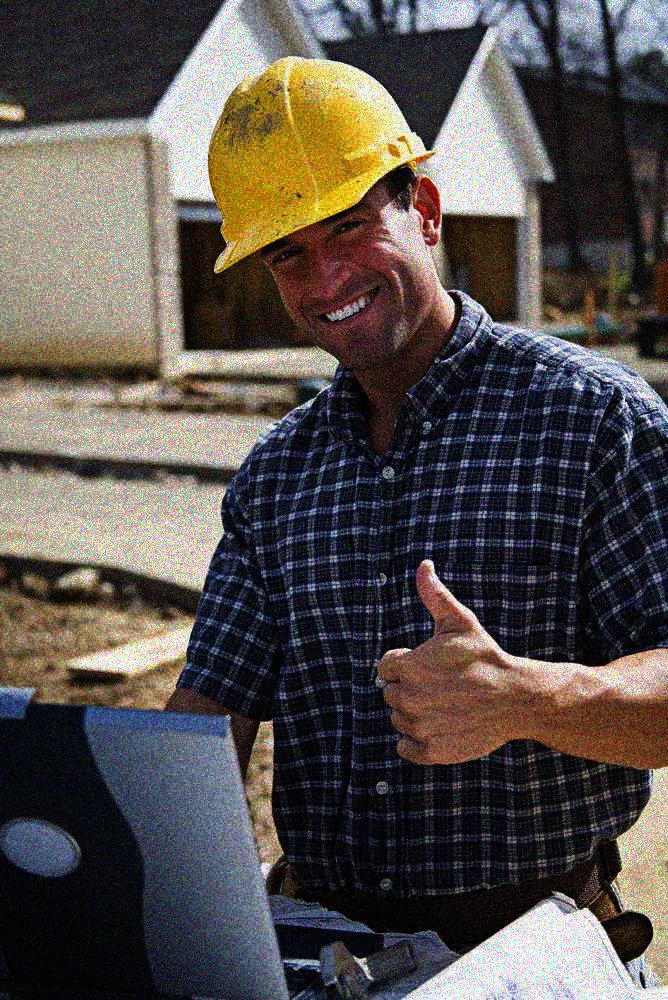helmet: (200, 52, 444, 371)
